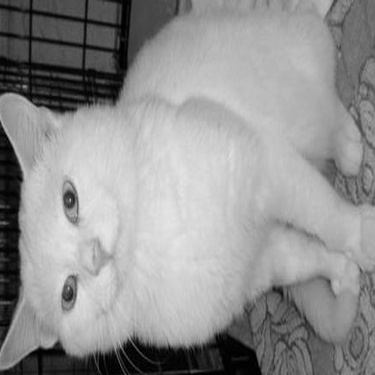cat: (1, 15, 367, 348)
